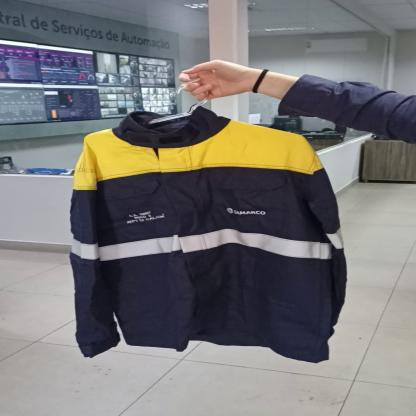C_eletrica: (66, 112, 352, 366)
